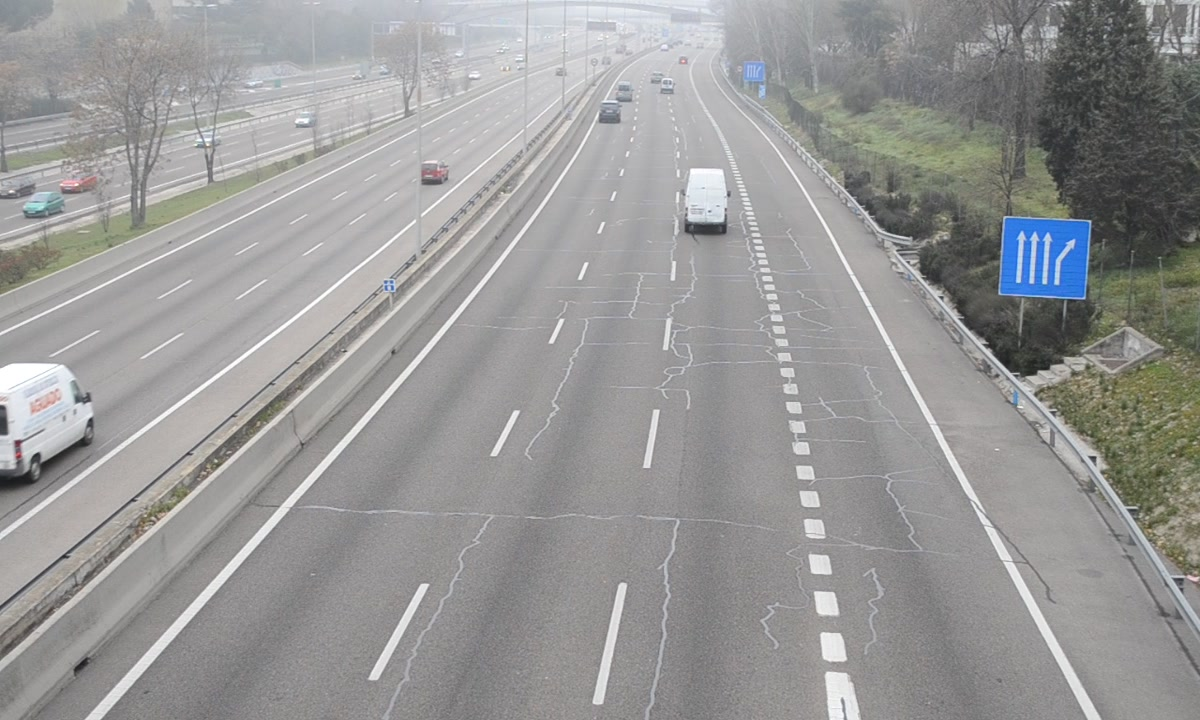car: (598, 99, 623, 123)
van: (684, 167, 730, 234)
